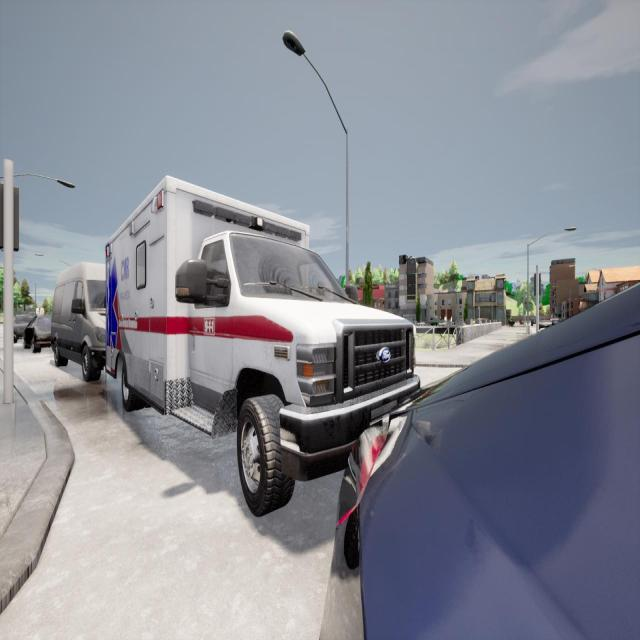Vehicle: (317, 283, 640, 640), (105, 178, 426, 516), (51, 265, 106, 380), (24, 316, 52, 354), (13, 311, 36, 344), (537, 318, 551, 327), (531, 315, 537, 327)
traffic_light: (0, 182, 21, 251), (534, 271, 542, 296)
